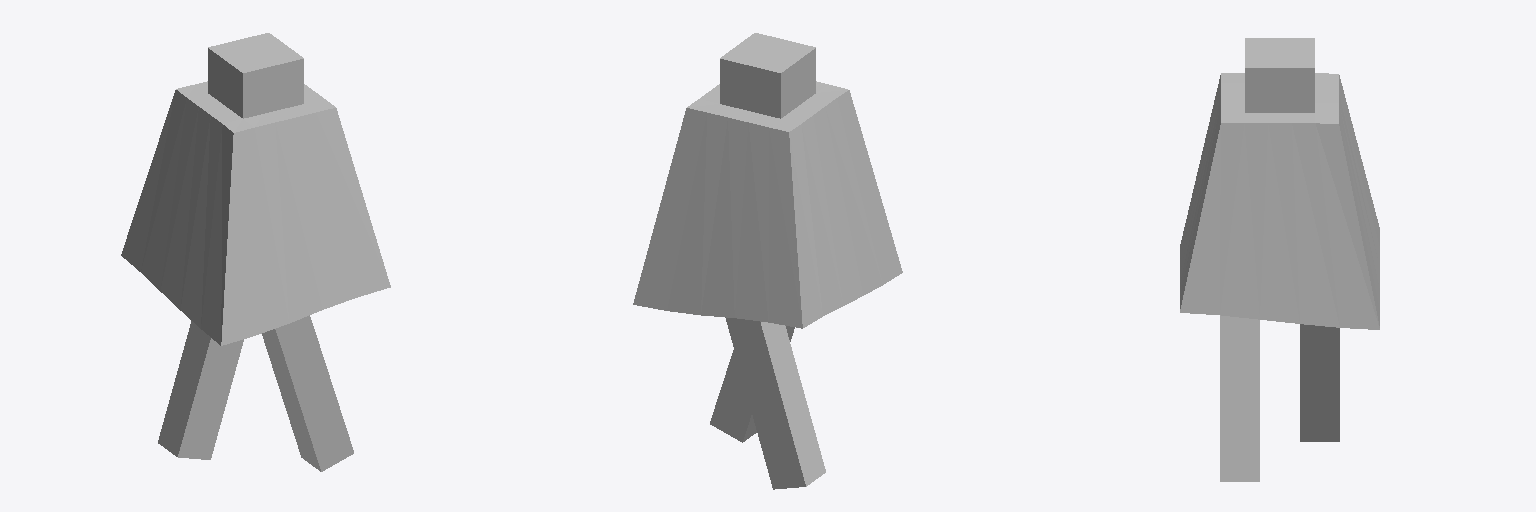
File: essai_000008.obj
The picture shows the model from 3 angles: view 1: azimuth 30°, elevation 25°; view 2: azimuth 150°, elevation 25°; view 3: azimuth 270°, elevation 25°; orthographic projection.
Parts seen in each view (by area): view 1: Cube; view 2: Cube; view 3: Cube.
Boxes of the visible parts, x1=… form: Cube: x1=121, y1=33, x2=390, y2=471; Cube: x1=633, y1=33, x2=902, y2=489; Cube: x1=1180, y1=38, x2=1379, y2=481.
Bounding box in the file's own units: 1.97 × 4.47 × 2.